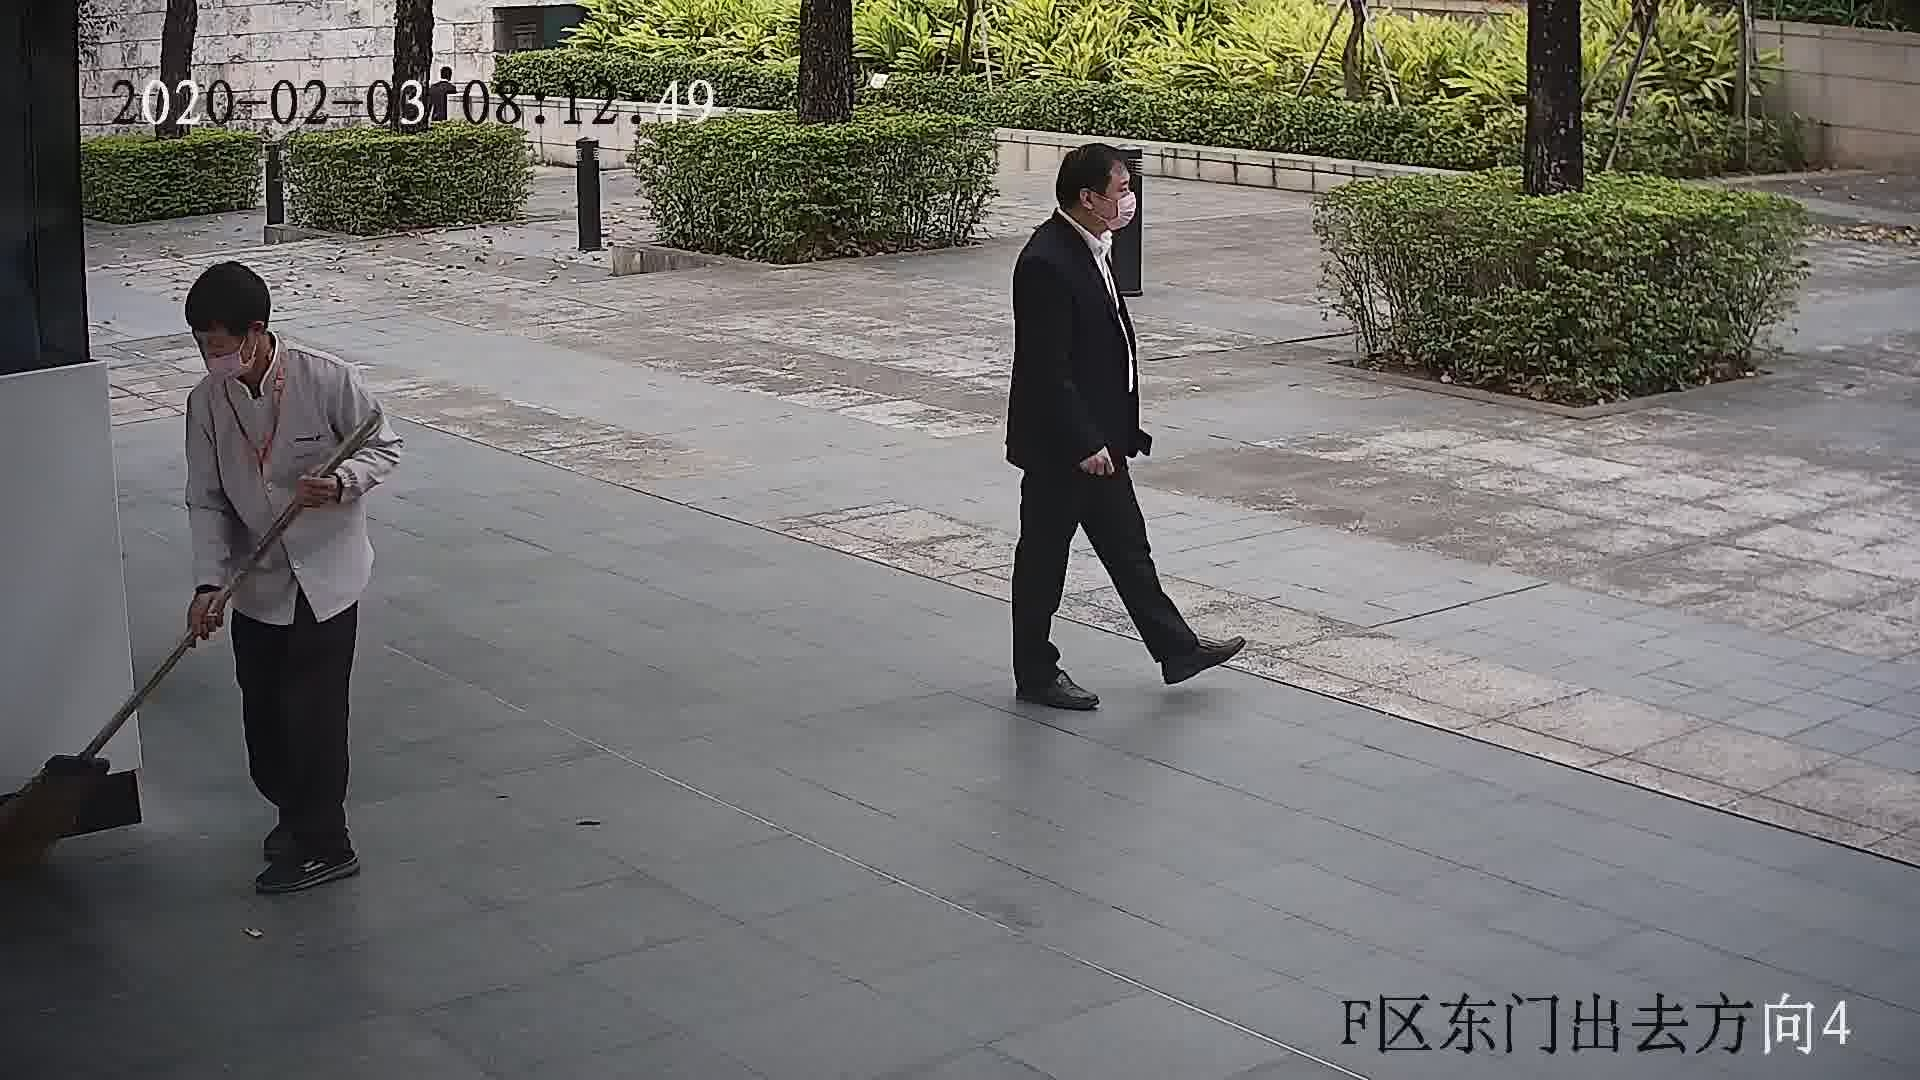face: (185, 302, 258, 386), (1081, 153, 1137, 227)
mask: (201, 355, 255, 383), (1106, 192, 1138, 228)
person: (141, 258, 339, 433), (1014, 142, 1137, 290)
